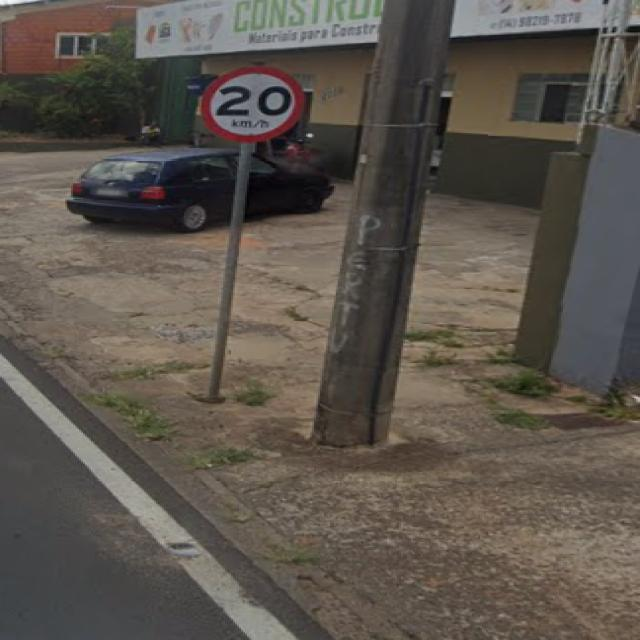speed limit: (185, 52, 321, 158)
